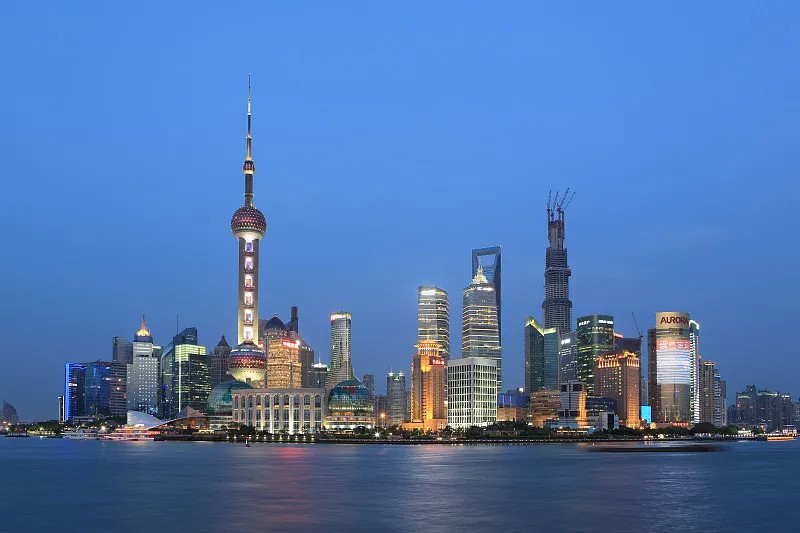Oriental: (226, 75, 269, 383)
